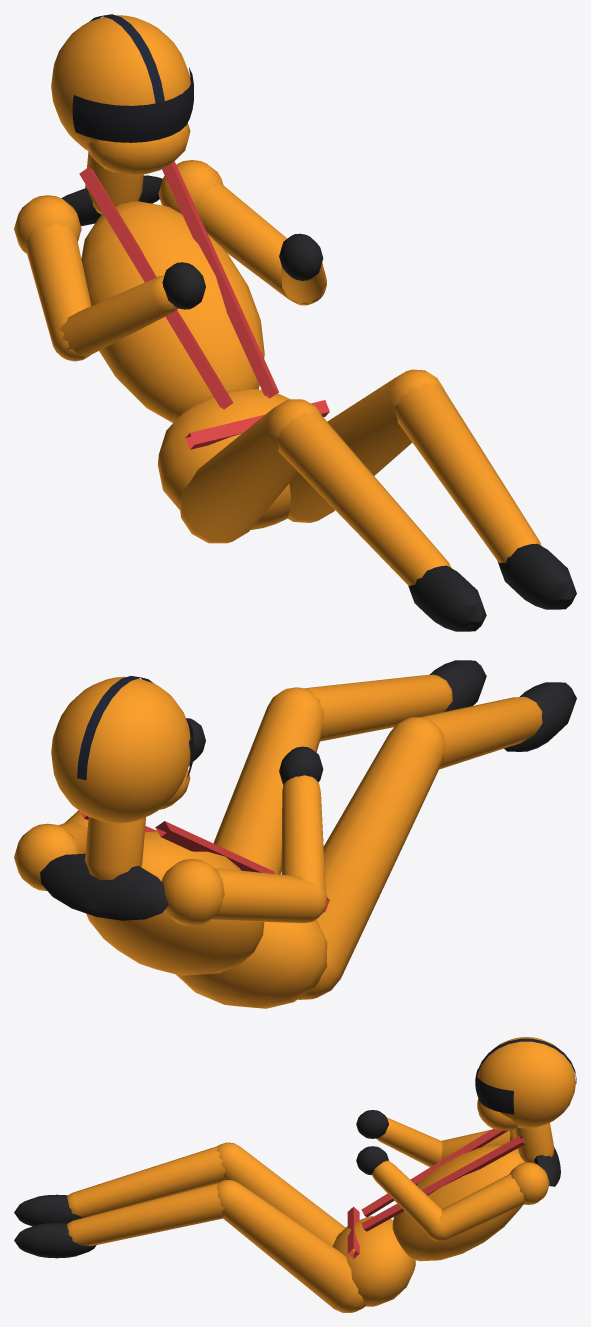
File: mclarsen_mcl40_driver.glb
3 renders of one model, top to bottom at view 1: azimuth 30°, elevation 25°; view 2: azimuth 150°, elevation 25°; view 3: azimuth 270°, elevation 25°, orthographic. The views are drawn at different scales.
Parts seen in each view (by area): view 1: mclarsen_mcl40_driver; view 2: mclarsen_mcl40_driver; view 3: mclarsen_mcl40_driver.
Boxes of the visible parts, box(x1,y1,x2,y2) form: mclarsen_mcl40_driver: box(14, 14, 576, 631); mclarsen_mcl40_driver: box(14, 660, 576, 1008); mclarsen_mcl40_driver: box(14, 1037, 576, 1312).
Size of the model in its own units: 0.5976 by 0.8682 by 1.7.
